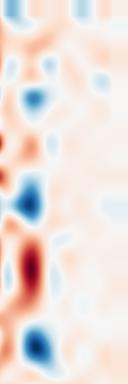filament: (4, 225, 55, 324)
